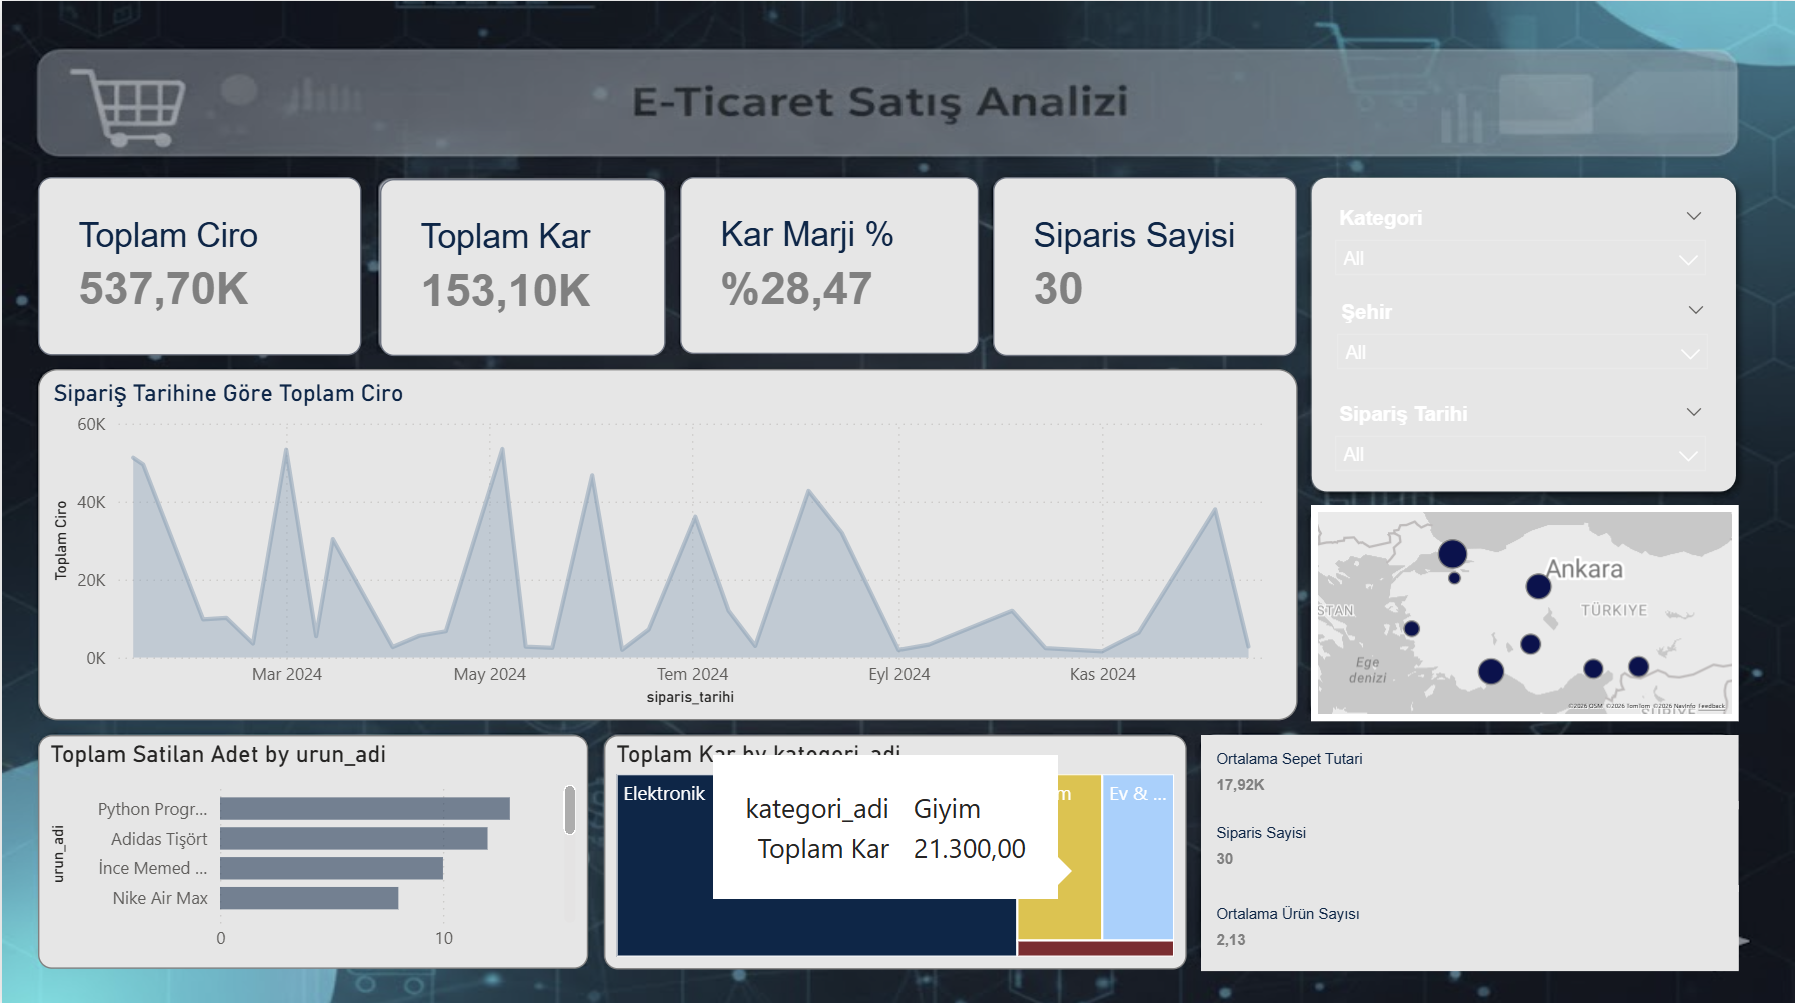

The dashboard page shown, as its layout file describes it:
{"tool":"powerbi","page":{"name":"Page 1","canvas":[1280,720],"ordinal":0},"visuals":[{"type":"cardVisual","fields":{"Data":["Ölçüler.Toplam Ciro"]},"box":[25.3,125.9,231.2,127.6],"z":0},{"type":"cardVisual","fields":{"Data":["Ölçüler.Toplam Kar"]},"box":[269.4,127.2,203.9,126.7],"z":1000},{"type":"cardVisual","fields":{"Data":["Ölçüler.Kar Marji %"]},"box":[483.9,126.1,212.8,126.7],"z":2000},{"type":"cardVisual","fields":{"Data":["Ölçüler.Siparis Sayisi"]},"box":[706.7,126.1,217.2,127.8],"z":3000},{"type":"shape","box":[925.6,117.8,321.1,242.2],"z":4000},{"type":"slicer","fields":{"Values":["public kategoriler.kategori_adi"]},"box":[942,141,285,62],"z":5000},{"type":"slicer","fields":{"Values":["public satis_ozeti.sehir"]},"box":[943,209,285,60],"z":6000},{"type":"slicer","fields":{"Values":["public siparisler.siparis_tarihi"]},"box":[942,281,285,60],"z":7000},{"type":"areaChart","title":"Sipariş Tarihine Göre Toplam Ciro","fields":{"Y":["Ölçüler.Toplam Ciro"],"Category":["public siparisler.siparis_tarihi"]},"box":[25.6,263.3,898.9,251.1],"z":8000},{"type":"clusteredBarChart","fields":{"Y":["Ölçüler.Toplam Satilan Adet"],"Category":["public urunler.urun_adi"]},"box":[25.7,524.3,392.9,167.1],"z":9000},{"type":"treemap","fields":{"Group":["public kategoriler.kategori_adi"],"Values":["Ölçüler.Toplam Kar"]},"box":[430,524.5,415.5,167.3],"z":10000},{"type":"cardVisual","fields":{"Data":["Ölçüler.Ortalama Sepet Tutari"]},"box":[855.8,524.2,384.2,53.3],"z":11000},{"type":"cardVisual","fields":{"Data":["Ölçüler.Siparis Sayisi"]},"box":[855.8,571.7,384.2,65.8],"z":12000},{"type":"cardVisual","fields":{"Data":["Ölçüler.Ortalama Ürün Sayısı"]},"box":[855.8,630.8,384.2,61.7],"z":13000},{"type":"azureMap","fields":{"Category":["public musteriler.sehir"],"Size":["Ölçüler.Toplam Ciro"]},"box":[934.4,360,305.6,154.4],"z":14000}]}

Visuals, with their boxes in screenshot pixels (x1, y1, x2, y2), scaled from the page's 1280x720 canvas onto the 1796x1003 screenshot:
cardVisual - Ölçüler.Toplam Ciro: Rect(35, 175, 360, 353)
cardVisual - Ölçüler.Toplam Kar: Rect(378, 177, 664, 354)
cardVisual - Ölçüler.Kar Marji %: Rect(679, 176, 978, 352)
cardVisual - Ölçüler.Siparis Sayisi: Rect(992, 176, 1296, 354)
shape: Rect(1299, 164, 1749, 502)
slicer - public kategoriler.kategori_adi: Rect(1322, 196, 1722, 283)
slicer - public satis_ozeti.sehir: Rect(1323, 291, 1723, 375)
slicer - public siparisler.siparis_tarihi: Rect(1322, 391, 1722, 475)
"Sipariş Tarihine Göre Toplam Ciro" areaChart: Rect(36, 367, 1297, 717)
clusteredBarChart - Ölçüler.Toplam Satilan Adet x public urunler.urun_adi: Rect(36, 730, 587, 963)
treemap - public kategoriler.kategori_adi x Ölçüler.Toplam Kar: Rect(603, 731, 1186, 964)
cardVisual - Ölçüler.Ortalama Sepet Tutari: Rect(1201, 730, 1740, 804)
cardVisual - Ölçüler.Siparis Sayisi: Rect(1201, 796, 1740, 888)
cardVisual - Ölçüler.Ortalama Ürün Sayısı: Rect(1201, 879, 1740, 965)
azureMap - public musteriler.sehir x Ölçüler.Toplam Ciro: Rect(1311, 502, 1740, 717)
